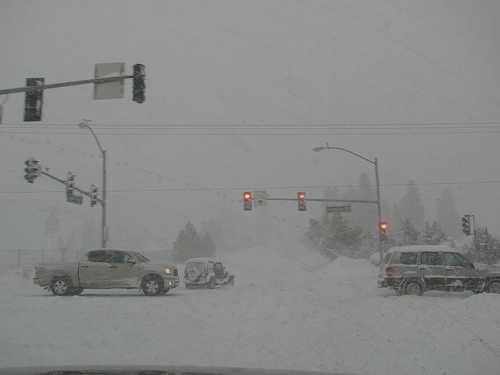red: (298, 190, 308, 214), (243, 190, 252, 213), (380, 220, 388, 241)
